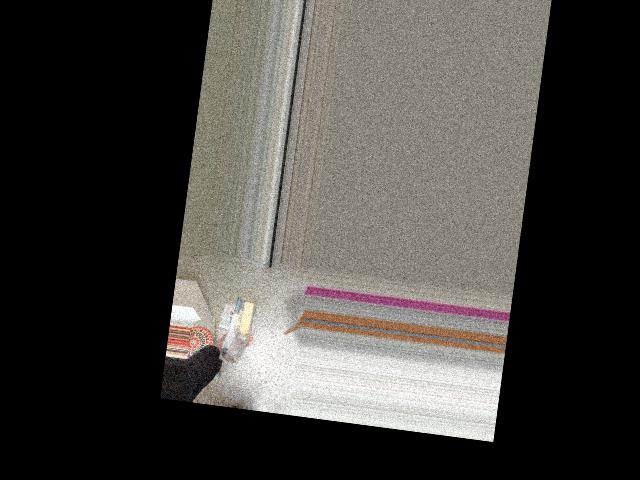cheese: (219, 296, 256, 363)
